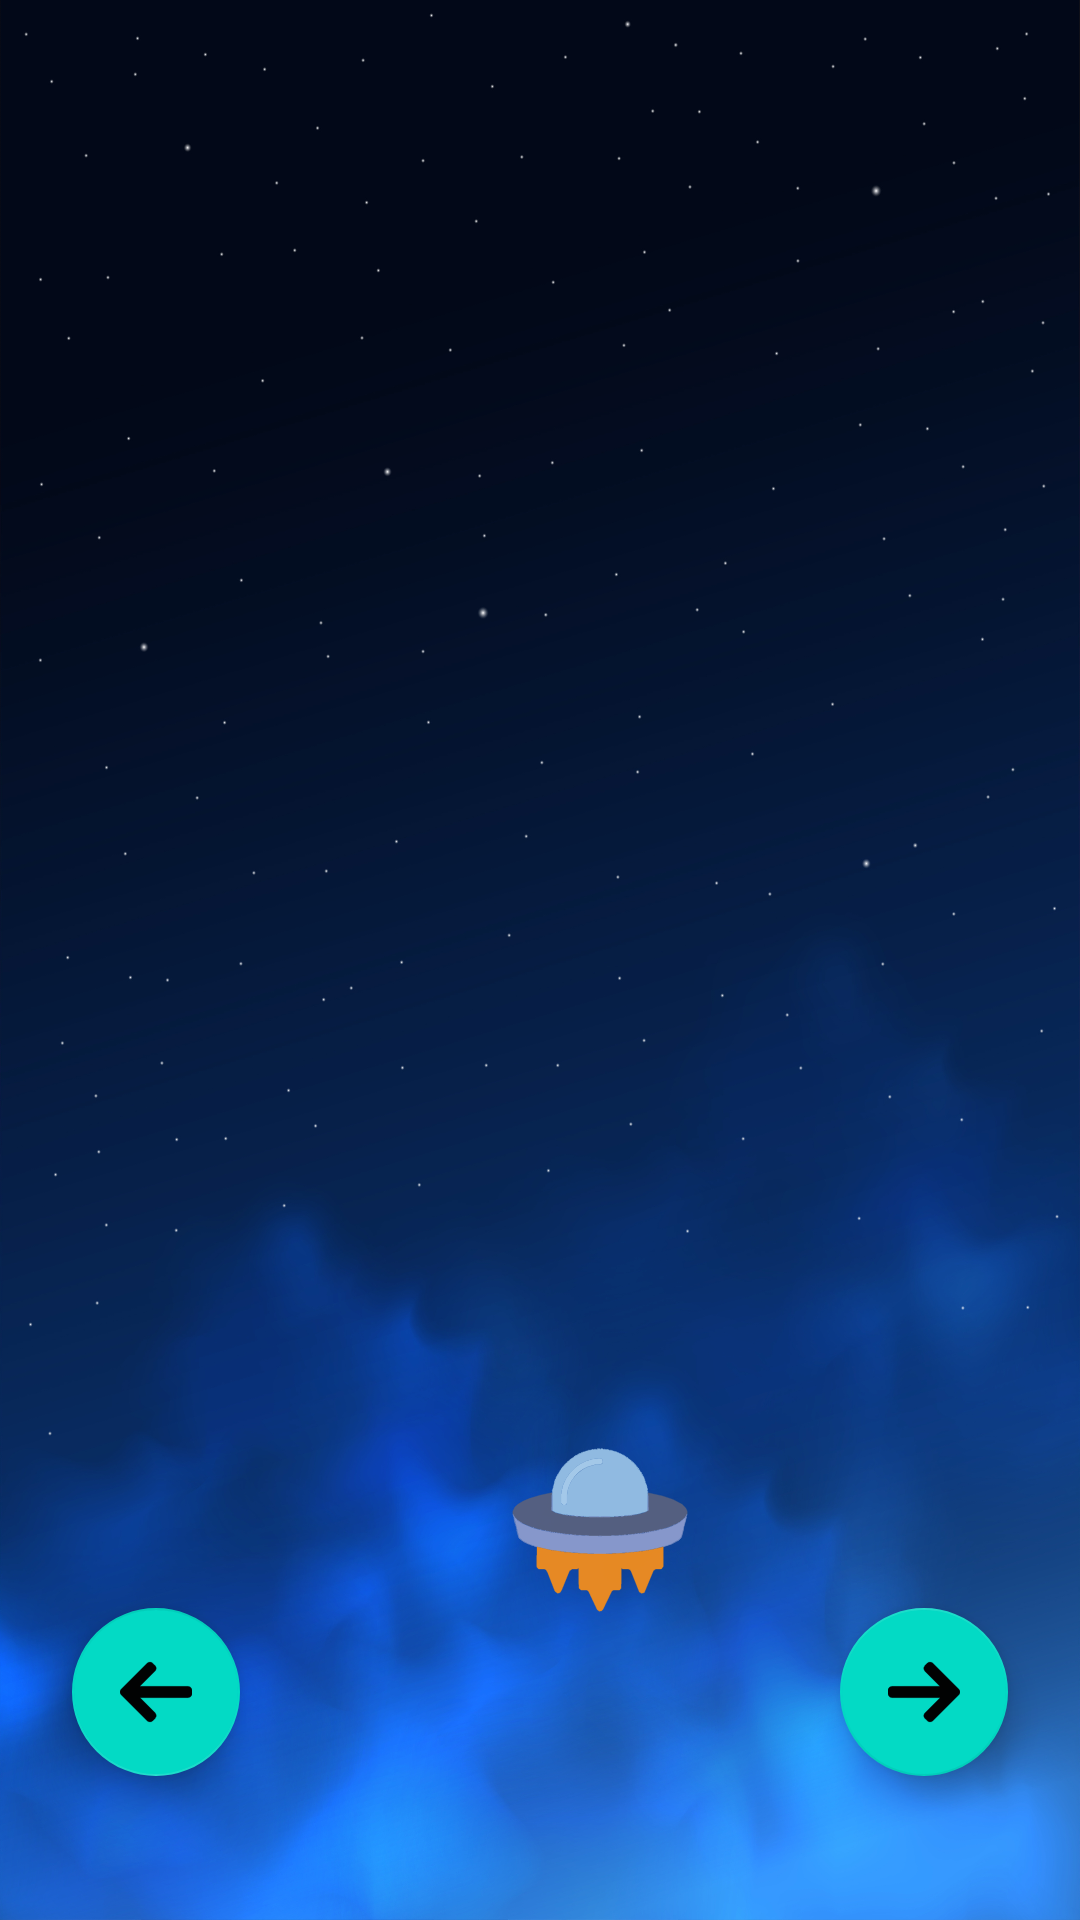

Where to tap for icons on this 1080px x 1920px app screen, as (x,y):
spaceship: (600,1530)
